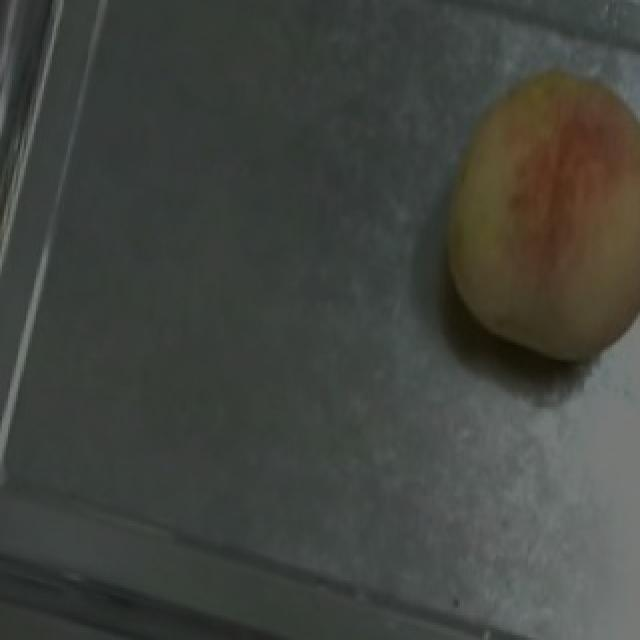Fruit: (404, 49, 640, 384)
